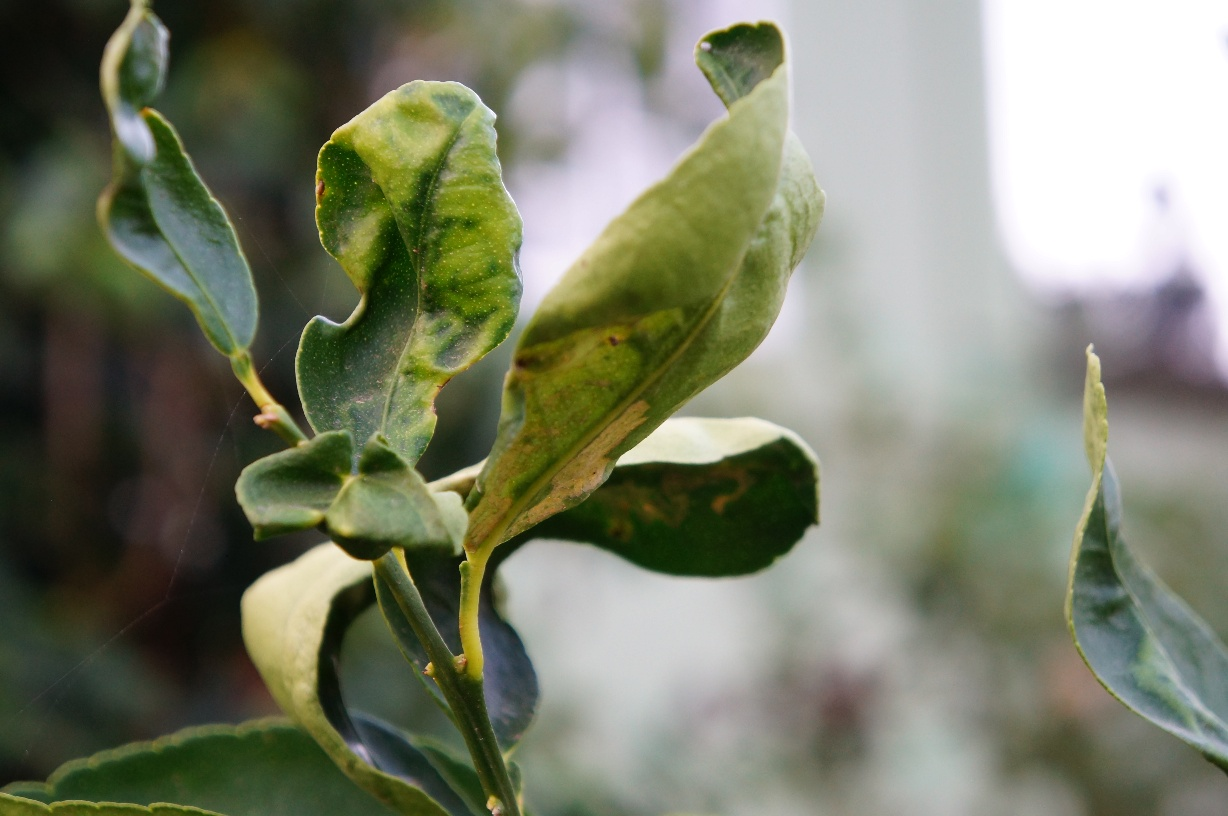damage: (459, 351, 674, 567)
